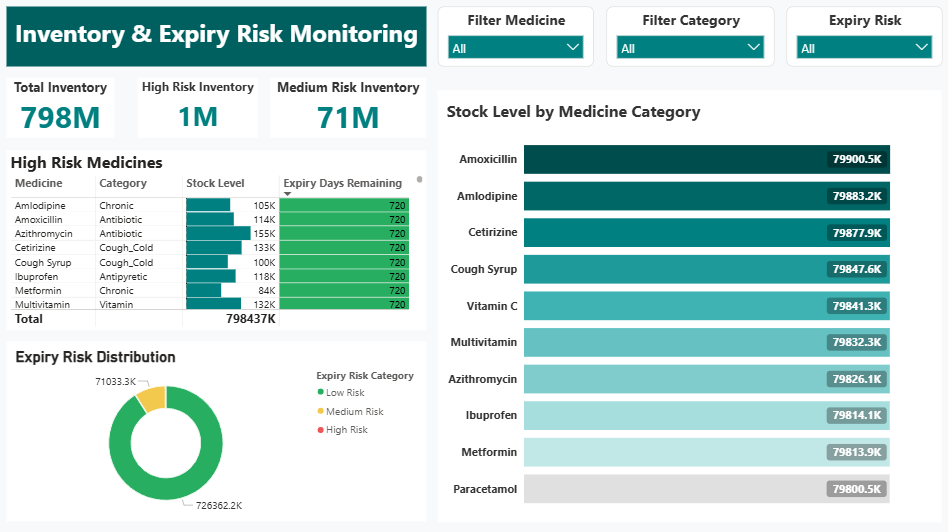

This screenshot's page, from the dashboard's own definition file:
{"tool":"powerbi","page":{"name":"Inventory Risk Dashboard","canvas":[1280,720],"ordinal":3},"visuals":[{"type":"textbox","box":[16,16,560,80],"z":0},{"type":"donutChart","title":"Expiry Risk Distribution","fields":{"Category":["Fact_Sales.Expiry Risk Category"],"Y":["_KPI_Table.Total Stock Level"]},"box":[16,464,560,240],"z":1000},{"type":"tableEx","title":"High Risk Medicines","fields":{"Values":["Dim_Product.medicine","Dim_Product.category","Sum(Fact_Sales.stock_level)","Fact_Sales.expiry_days_remaining"]},"box":[16,208,560,240],"z":2000},{"type":"clusteredBarChart","title":"Stock Level by Medicine Category","fields":{"Y":["_KPI_Table.Total Stock Level"],"Category":["Dim_Product.medicine"]},"box":[592,128,672,576],"z":3000},{"type":"card","title":"Total Inventory","fields":{"Values":["_KPI_Table.Total Stock Level"]},"box":[16,112,144,80],"z":4000},{"type":"card","title":"High Risk Inventory","fields":{"Values":["_KPI_Table.High Risk Stock"]},"box":[192,112,160,80],"z":5000},{"type":"card","title":"Medium Risk Inventory","fields":{"Values":["_KPI_Table.Medium Risk Stock"]},"box":[368,112,208,80],"z":6000},{"type":"slicer","title":"Filter Medicine","fields":{"Values":["Dim_Product.medicine"]},"box":[592,16,208,80],"z":7000},{"type":"slicer","title":"Filter Category","fields":{"Values":["Dim_Demographics.age_group"]},"box":[816,16,224,80],"z":8000},{"type":"slicer","title":"Expiry Risk","fields":{"Values":["Fact_Sales.Expiry Risk Category"]},"box":[1056,16,208,80],"z":11000}]}

Visuals, with their boxes in screenshot pixels (x1, y1, x2, y2), scaled from the page's 1280x720 canvas onto the 948x532 screenshot:
textbox: <bbox>12, 12, 427, 71</bbox>
"Expiry Risk Distribution" donutChart: <bbox>12, 343, 427, 520</bbox>
"High Risk Medicines" tableEx: <bbox>12, 154, 427, 331</bbox>
"Stock Level by Medicine Category" clusteredBarChart: <bbox>438, 95, 936, 520</bbox>
"Total Inventory" card: <bbox>12, 83, 118, 142</bbox>
"High Risk Inventory" card: <bbox>142, 83, 261, 142</bbox>
"Medium Risk Inventory" card: <bbox>273, 83, 427, 142</bbox>
"Filter Medicine" slicer: <bbox>438, 12, 592, 71</bbox>
"Filter Category" slicer: <bbox>604, 12, 770, 71</bbox>
"Expiry Risk" slicer: <bbox>782, 12, 936, 71</bbox>
